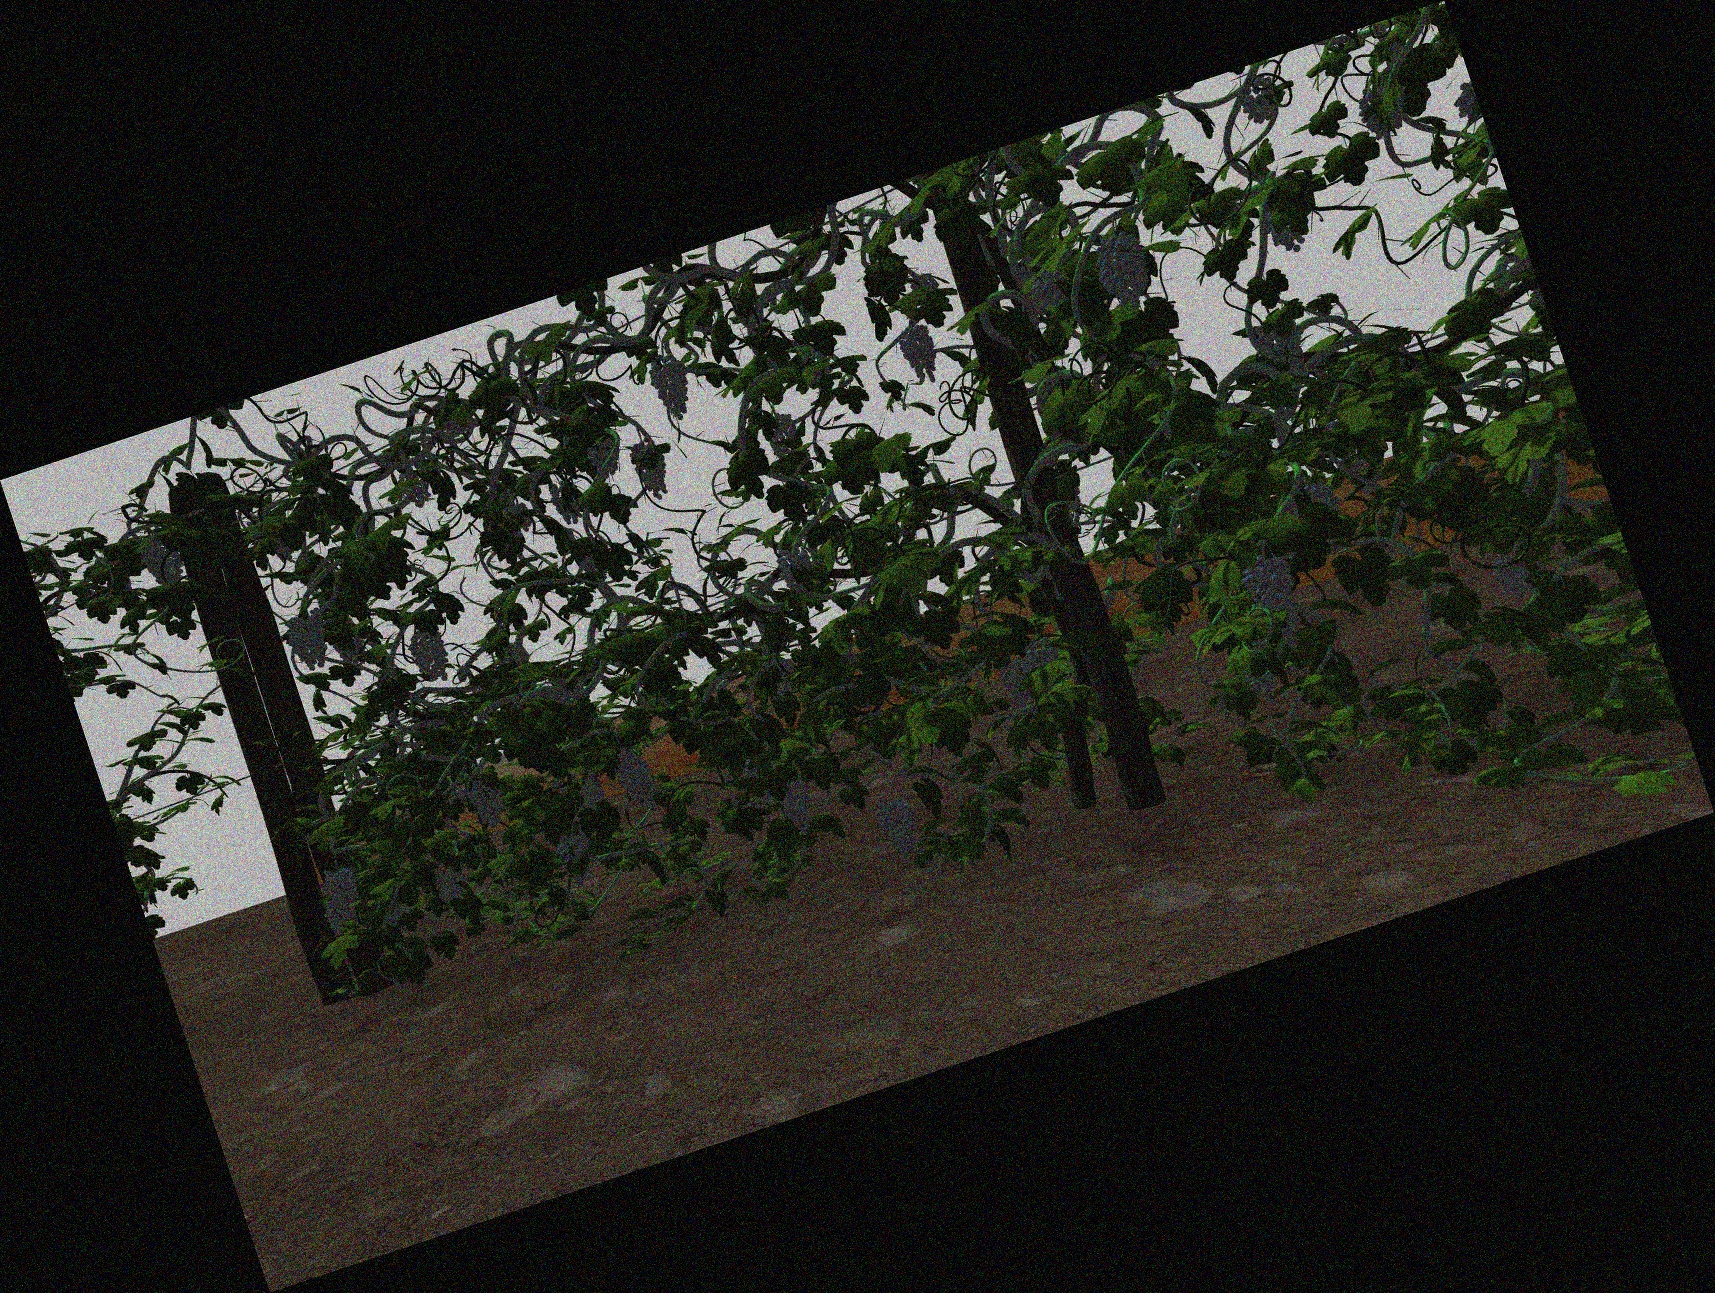grape: (1099, 231, 1150, 304), (1248, 557, 1298, 630), (654, 359, 690, 422), (288, 615, 327, 670), (880, 799, 917, 856), (616, 748, 653, 805), (903, 325, 937, 384), (411, 627, 448, 682), (143, 538, 182, 587), (635, 441, 667, 500), (1496, 549, 1530, 599), (1241, 80, 1280, 122), (783, 780, 815, 833), (326, 867, 358, 915), (471, 780, 502, 828), (778, 547, 812, 592), (764, 412, 798, 456), (1003, 661, 1033, 712), (1033, 269, 1069, 308), (1257, 323, 1285, 367), (589, 440, 622, 475), (557, 833, 591, 864), (1282, 327, 1308, 368), (1025, 638, 1059, 668), (329, 905, 357, 934), (436, 871, 464, 900)
